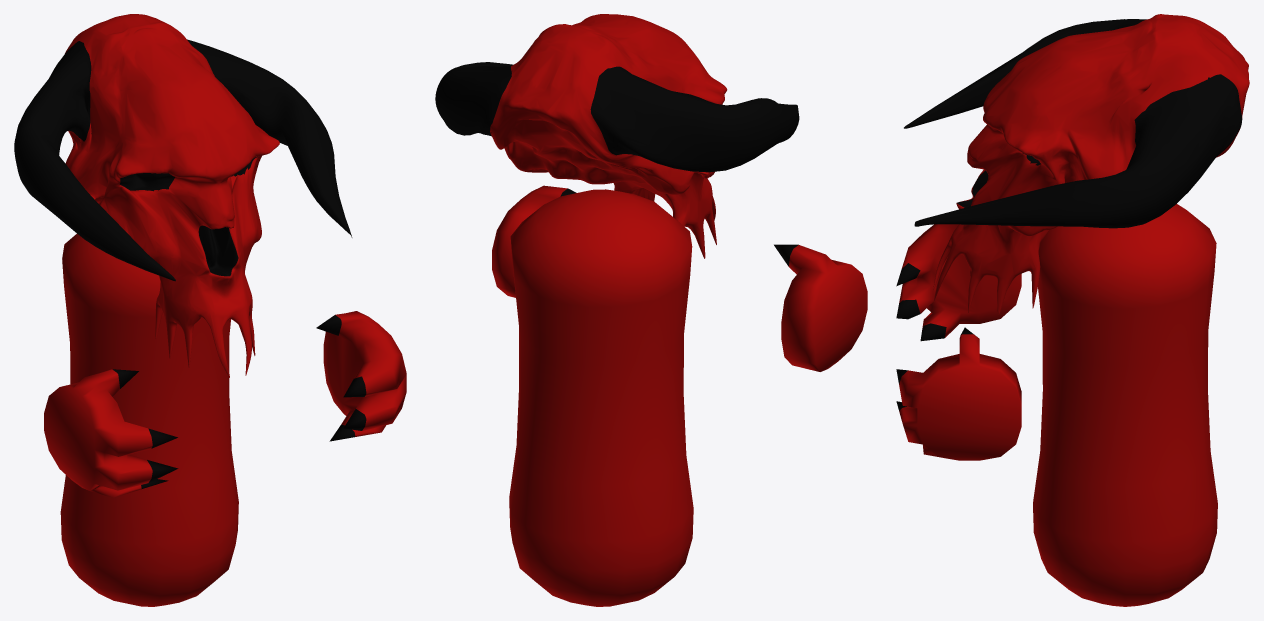
Rendered from smallDemon.fbx.
The picture shows the model from 3 angles, left to right: view 1: azimuth 30°, elevation 25°; view 2: azimuth 150°, elevation 25°; view 3: azimuth 270°, elevation 25°; orthographic projection. The views are drawn at different scales.
Parts seen in each view (by area): view 1: Body, RightHand, LeftHand; view 2: Body, RightHand, LeftHand; view 3: Body, LeftHand, RightHand.
Boxes of the visible parts, bbox=[...] form: Body: bbox=[14, 14, 352, 606]; RightHand: bbox=[44, 369, 178, 497]; LeftHand: bbox=[316, 311, 406, 441]; Body: bbox=[435, 14, 799, 606]; RightHand: bbox=[774, 244, 867, 371]; LeftHand: bbox=[492, 185, 576, 297]; Body: bbox=[904, 14, 1249, 606]; LeftHand: bbox=[896, 327, 1021, 460]; RightHand: bbox=[896, 224, 1021, 341].
Size of the model in its own units: 6448 by 10958 by 6122.
